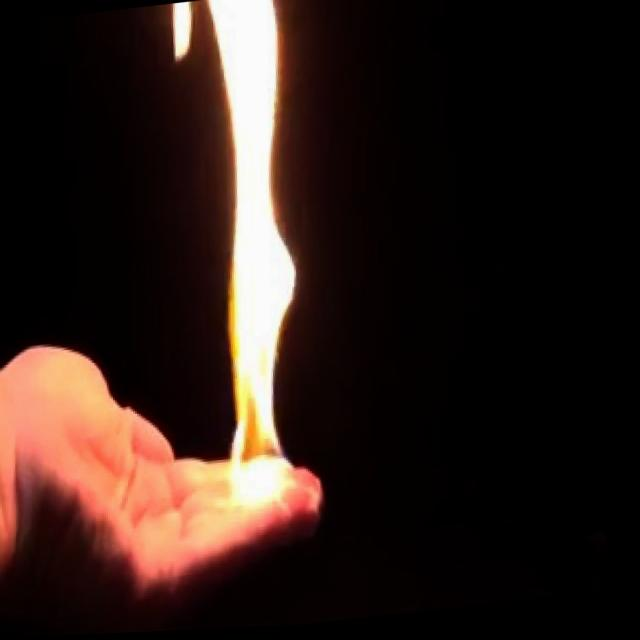helmet: (170, 0, 339, 526)
